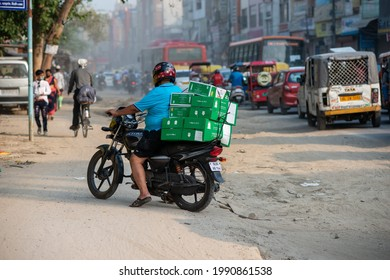bike: (87, 63, 232, 212), (232, 64, 246, 100)
bus: (134, 41, 207, 66), (228, 37, 307, 60)
car: (302, 56, 385, 134), (1, 50, 29, 112), (267, 64, 301, 113)
